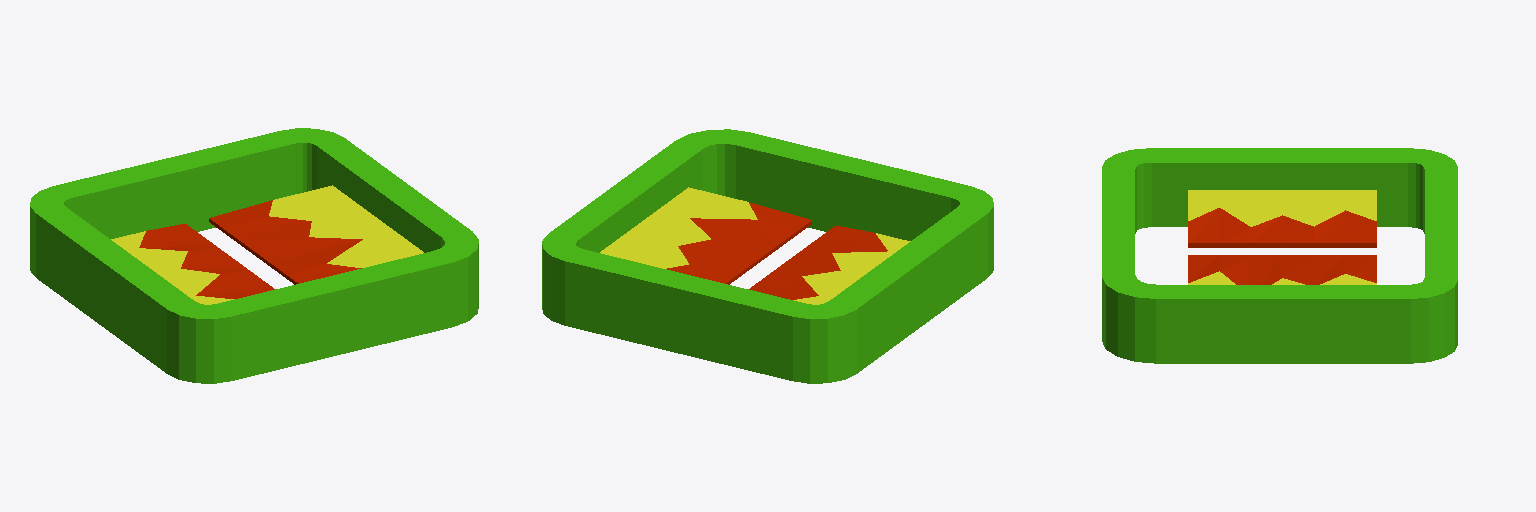
3 views of the same model, side by side, from view 1: azimuth 30°, elevation 25°; view 2: azimuth 150°, elevation 25°; view 3: azimuth 270°, elevation 25° (orthographic).
Visible parts, largest first — view 1: SoftBlock; view 2: SoftBlock; view 3: SoftBlock.
Part boxes in pixels (x1,y1,x2,y2): SoftBlock: (30, 128, 478, 383); SoftBlock: (542, 129, 993, 383); SoftBlock: (1102, 148, 1457, 363).
Bounding box in the file's own units: 0.7 × 0.14 × 0.7.
1 materials, 1 textured.